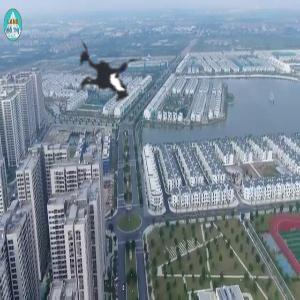drone: (31, 9, 172, 150)
